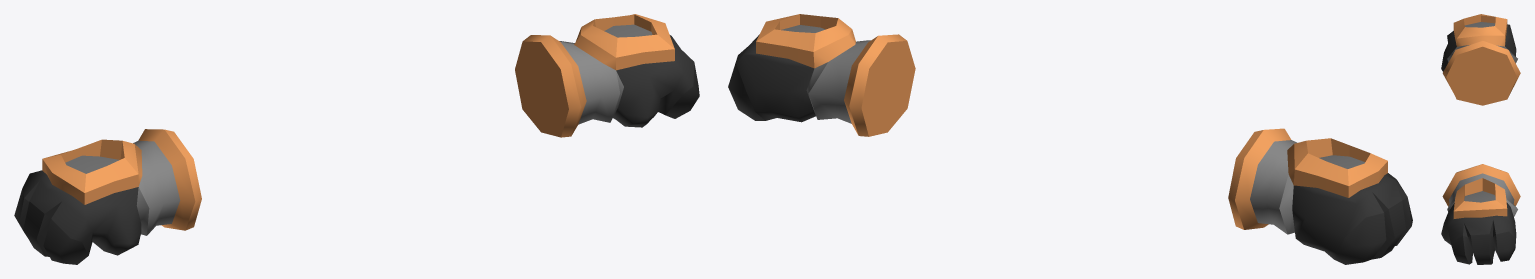
Rendered from Glove_16.fbx.
3 views of the same model, side by side, from view 1: azimuth 30°, elevation 25°; view 2: azimuth 150°, elevation 25°; view 3: azimuth 270°, elevation 25° (orthographic). The views are drawn at different scales.
Parts seen in each view (by area): view 1: Glove_16; view 2: Glove_16; view 3: Glove_16.
Boxes of the visible parts, x1=… form: Glove_16: x1=14, y1=14, x2=699, y2=264; Glove_16: x1=728, y1=14, x2=1412, y2=264; Glove_16: x1=1441, y1=14, x2=1520, y2=264.
Size of the model in its own units: 134 by 19.65 by 21.51.
